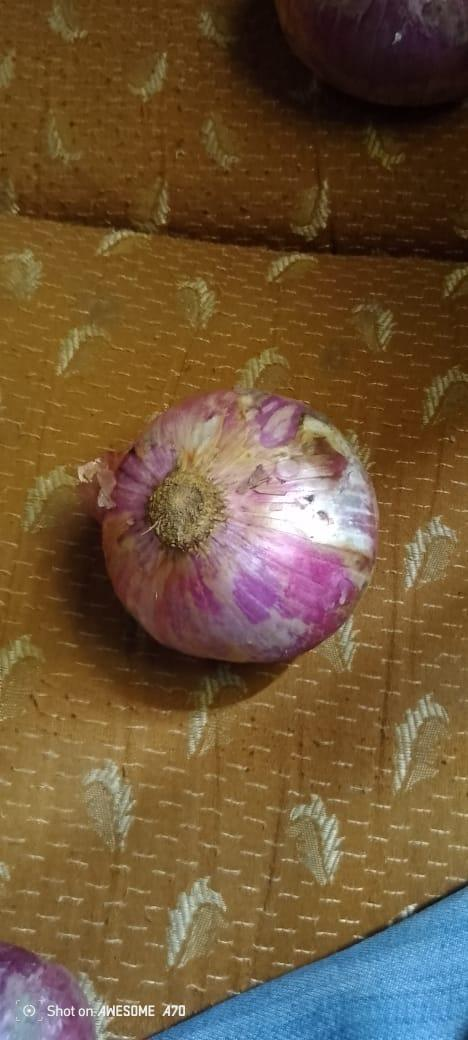non-mango: (97, 394, 378, 658)
